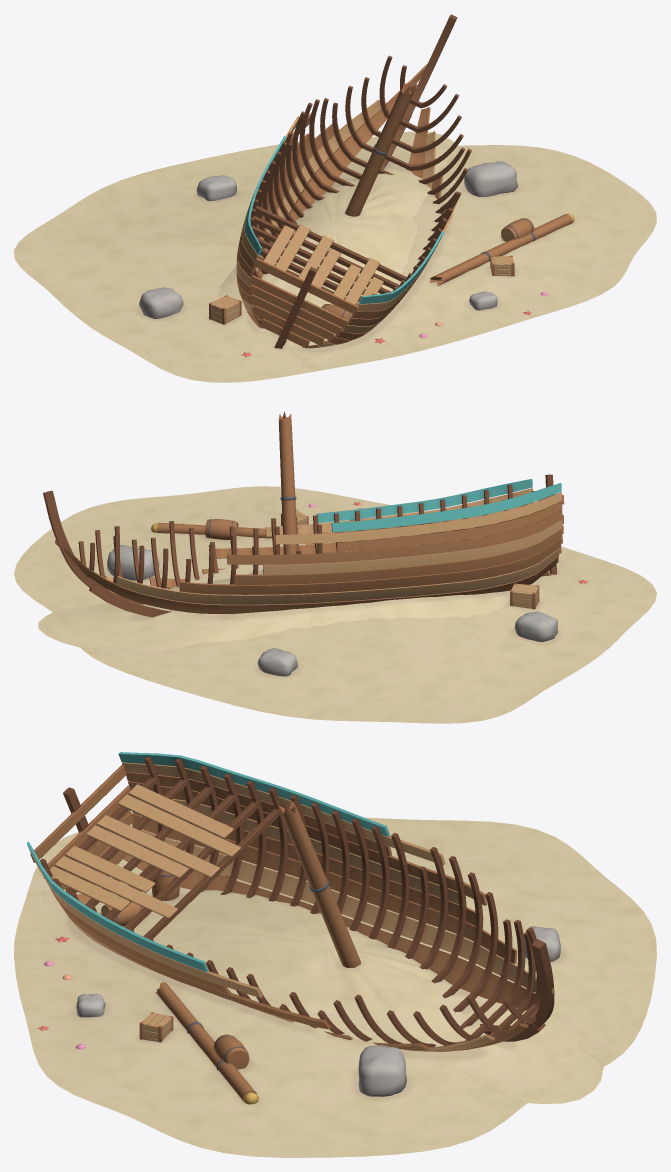
The model's file is shipwreck.glb.
3 renders of one model, top to bottom at view 1: azimuth 30°, elevation 25°; view 2: azimuth 150°, elevation 25°; view 3: azimuth 270°, elevation 25°, orthographic. The views are drawn at different scales.
Visible parts, largest first — view 1: shipwreck_body; view 2: shipwreck_body; view 3: shipwreck_body.
Boxes of the visible parts, left/top/right/bottom form: shipwreck_body: left=14, top=14, right=656, bottom=382; shipwreck_body: left=14, top=411, right=656, bottom=723; shipwreck_body: left=14, top=752, right=656, bottom=1157.
Size of the model in its own units: 17.23 by 4.98 by 13.69.
Materials: 1 (1 with a texture image).
